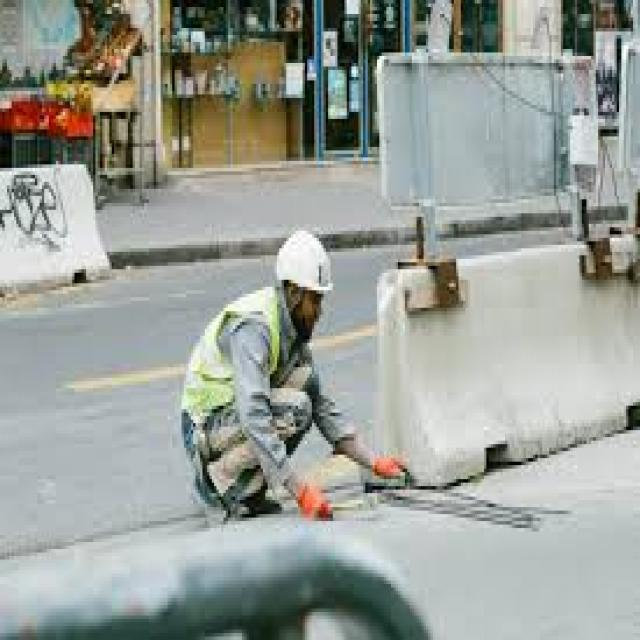Reflective-Jacket: (168, 280, 296, 434)
Safety-Helmet: (268, 217, 344, 311)
